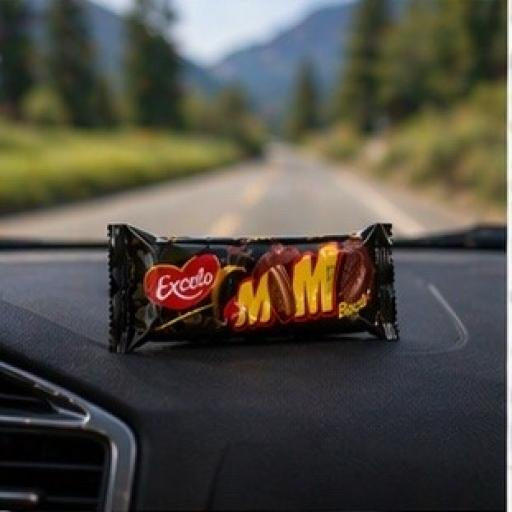MOMO: (54, 183, 464, 450)
